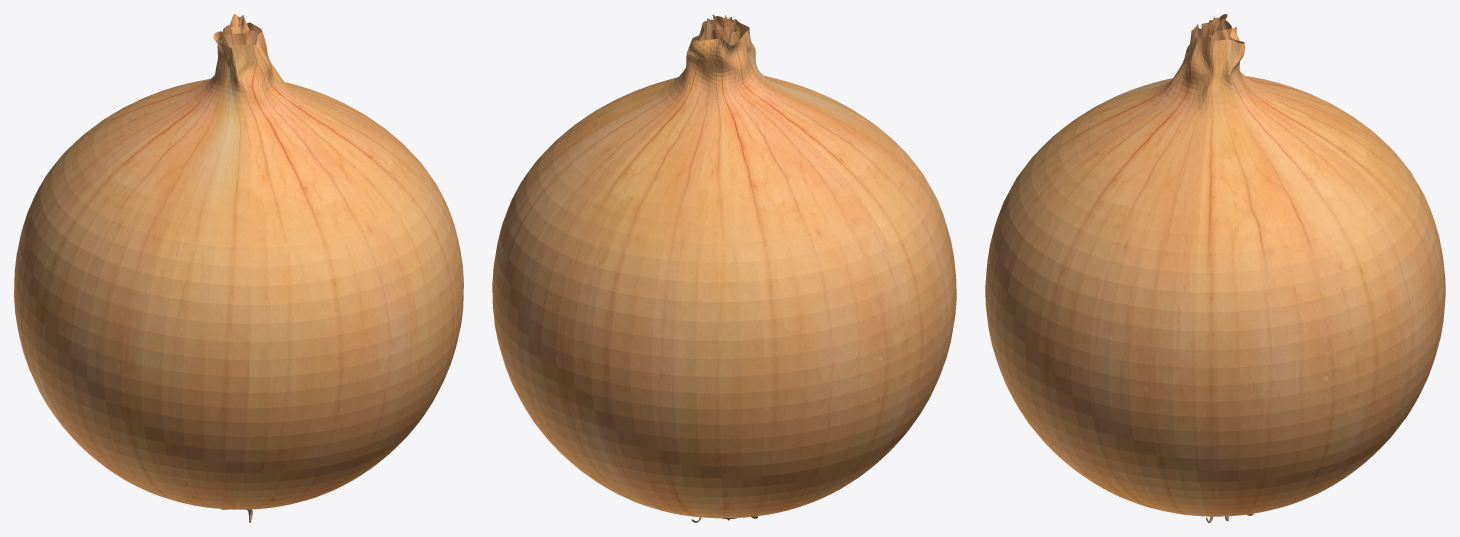
Rendered from onion.obj.
3 views of the same model, side by side, from view 1: azimuth 30°, elevation 25°; view 2: azimuth 150°, elevation 25°; view 3: azimuth 270°, elevation 25° (orthographic). The views are drawn at different scales.
Parts seen in each view (by area): view 1: Onion_03; view 2: Onion_03; view 3: Onion_03.
Boxes of the visible parts, x1,y1,x2,y2 form: Onion_03: [14, 14, 463, 522]; Onion_03: [492, 14, 956, 522]; Onion_03: [985, 14, 1445, 522].
Bounding box in the file's own units: 2.66 × 3.17 × 2.66.
